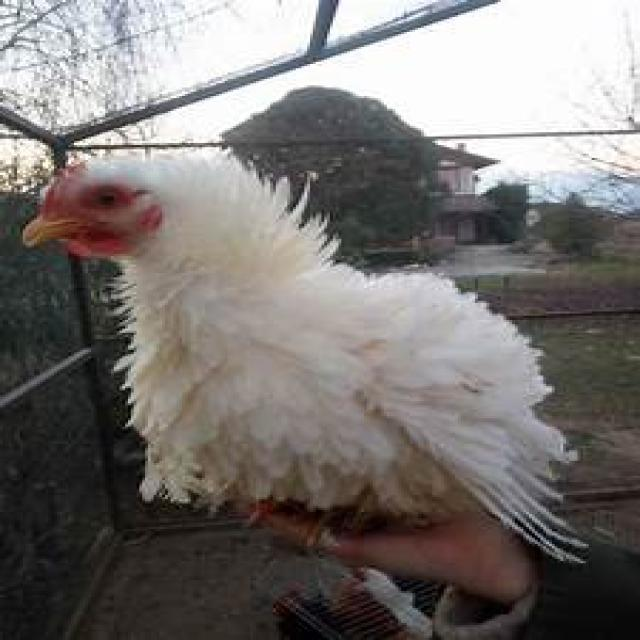animal: (26, 152, 548, 529)
